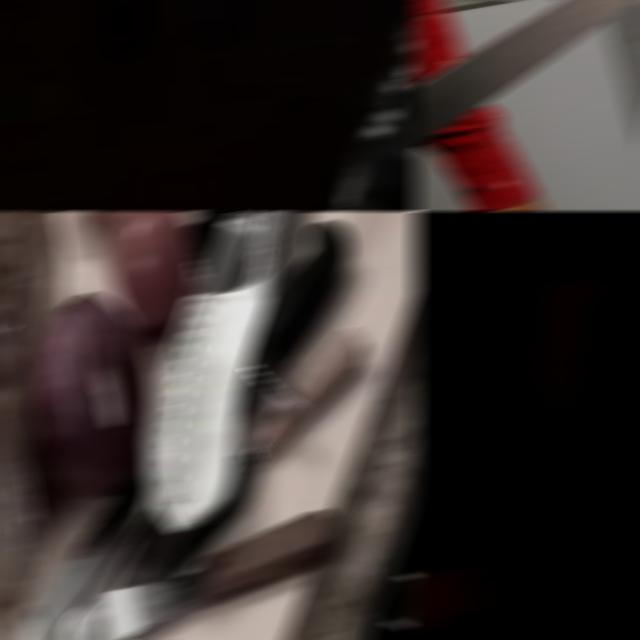Knife: (412, 0, 640, 146)
Knife_Handle: (412, 338, 640, 640)
